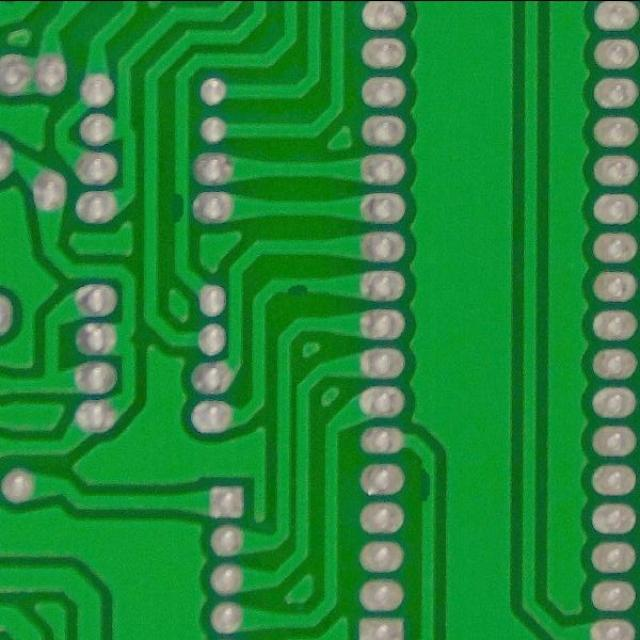MouseBite: (414, 461, 443, 511), (167, 185, 194, 232), (278, 274, 318, 299)
